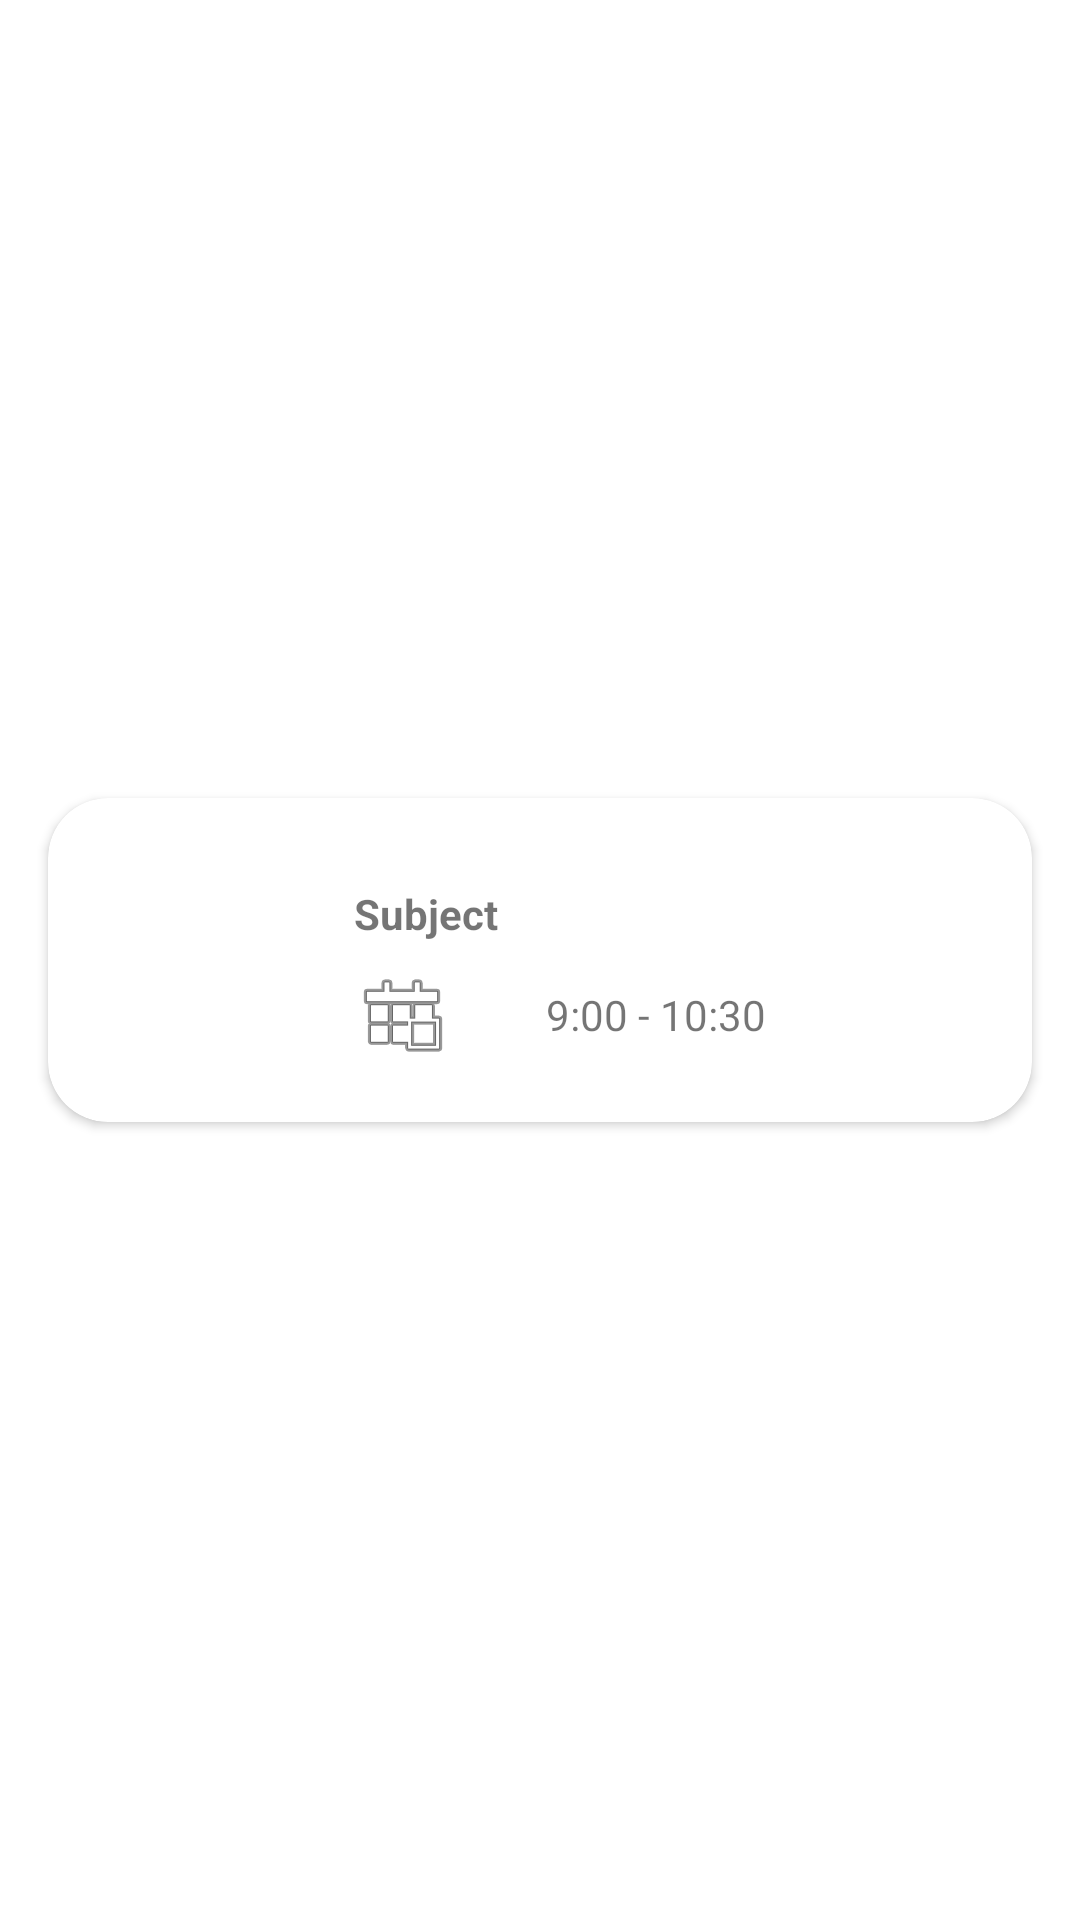

Icons on this 1080×1920 Android screen, each with its box as bbox=(x1, y1, x2, y2):
today: bbox=(364, 979, 442, 1052)
